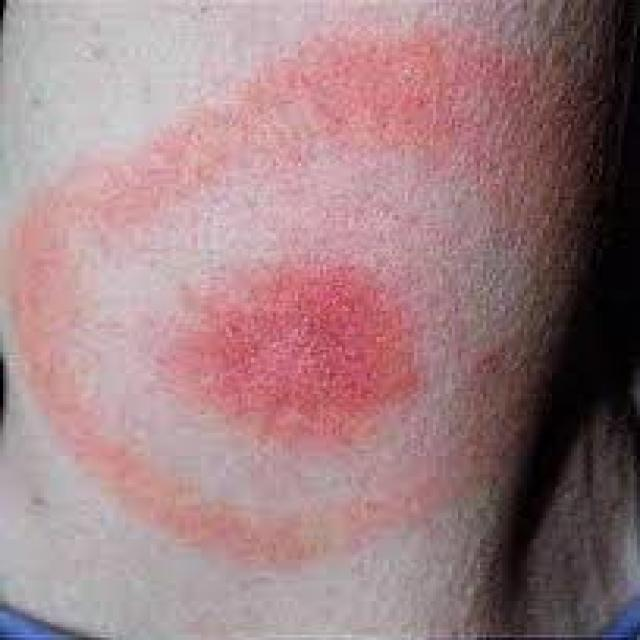kene: (26, 45, 633, 604)
